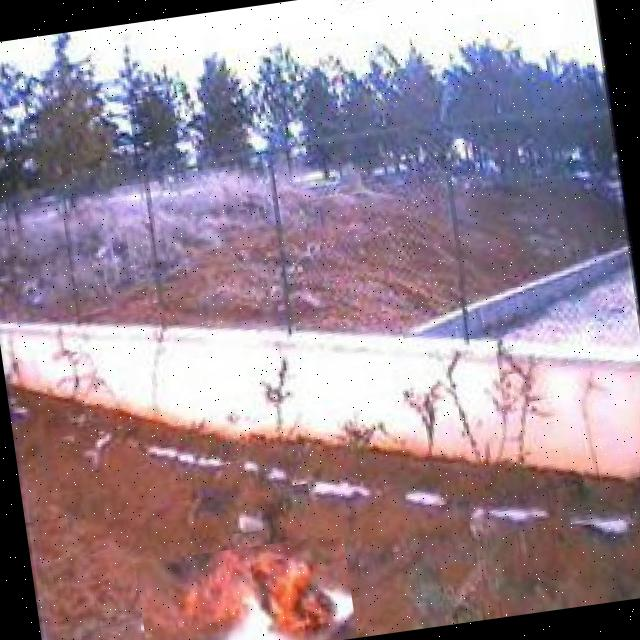fire: (135, 534, 358, 640)
